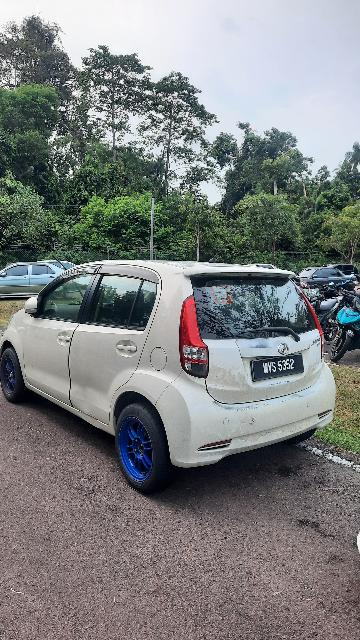License_Plate: (251, 354, 306, 381)
car: (2, 258, 339, 496)
